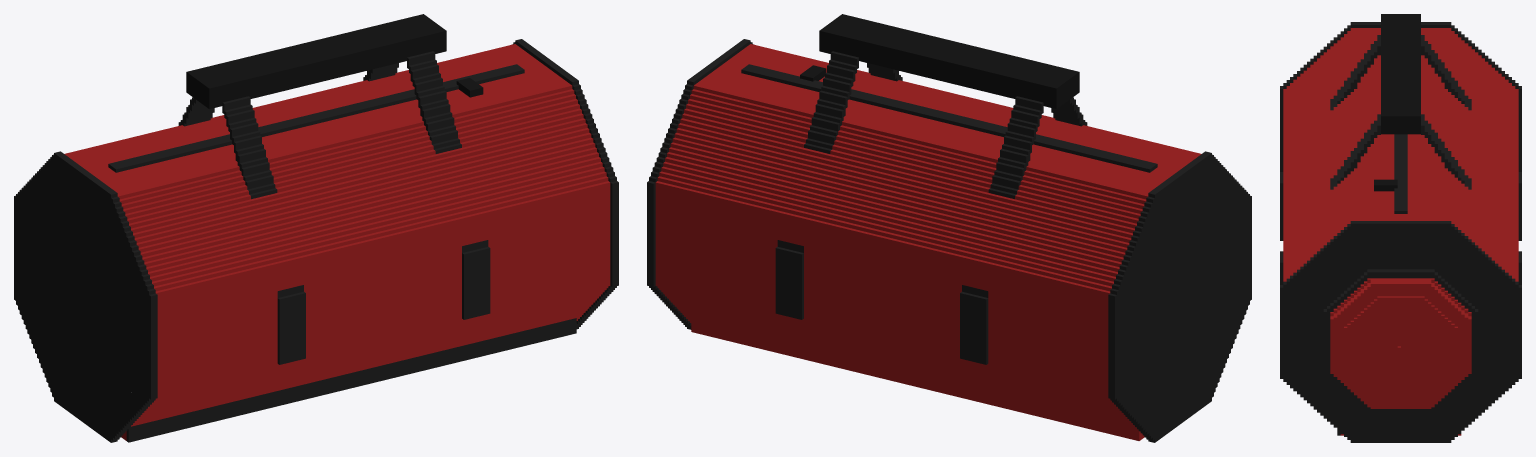
Rendered from duffelbag_gym_l.glb.
3 renders of one model, left to right at view 1: azimuth 30°, elevation 25°; view 2: azimuth 150°, elevation 25°; view 3: azimuth 270°, elevation 25°, orthographic. The views are drawn at different scales.
Parts seen in each view (by area): view 1: duffelbag_gym_l:compound; view 2: duffelbag_gym_l:compound; view 3: duffelbag_gym_l:compound.
Part boxes in pixels (<box>): duffelbag_gym_l:compound: <box>14,14,618,442</box>; duffelbag_gym_l:compound: <box>647,14,1251,442</box>; duffelbag_gym_l:compound: <box>1280,14,1521,442</box>.
Bounding box in the file's own units: 0.6 × 0.364 × 0.288.
